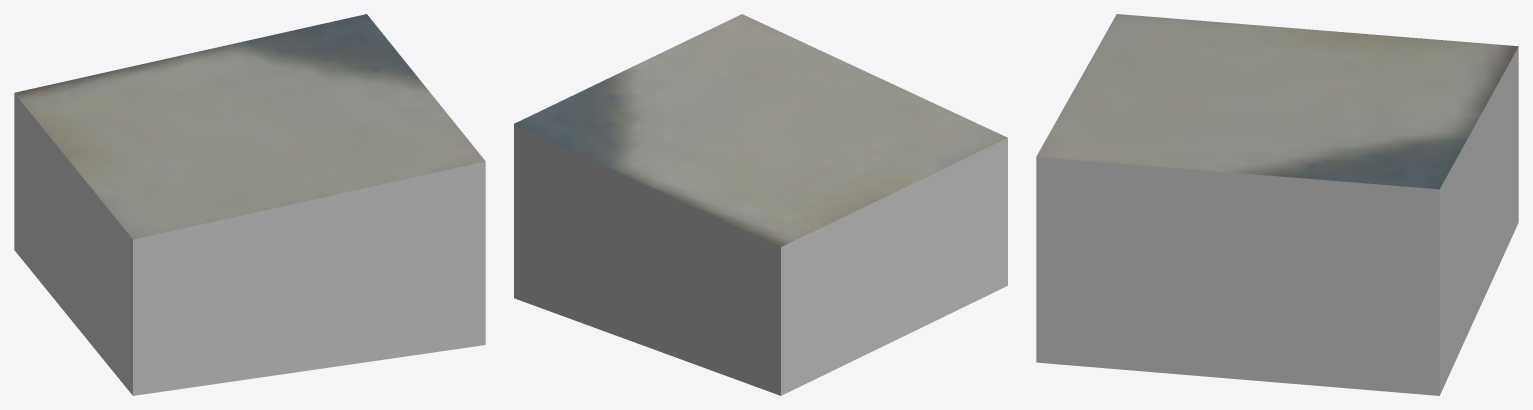
File: DEBW_0010007TxcK.gltf
3 renders of one model, left to right at view 1: azimuth 30°, elevation 25°; view 2: azimuth 150°, elevation 25°; view 3: azimuth 270°, elevation 25°, orthographic. The views are drawn at different scales.
Parts seen in each view (by area): view 1: Z_UP; view 2: Z_UP; view 3: Z_UP.
Part boxes in pixels (box(x1,y1,x2,y2)): Z_UP: box(14, 14, 485, 395); Z_UP: box(514, 14, 1007, 395); Z_UP: box(1036, 14, 1518, 395).
Bounding box in the file's own units: 6.68 × 3.11 × 6.59.
2 materials, 1 textured.
